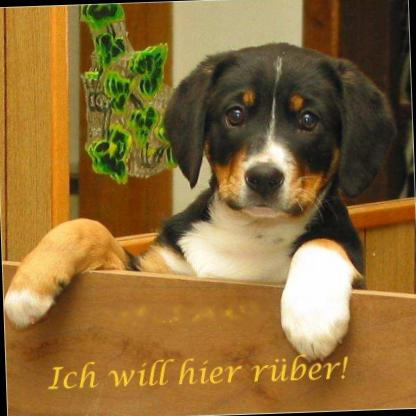EntleBucher: (0, 34, 406, 373)
